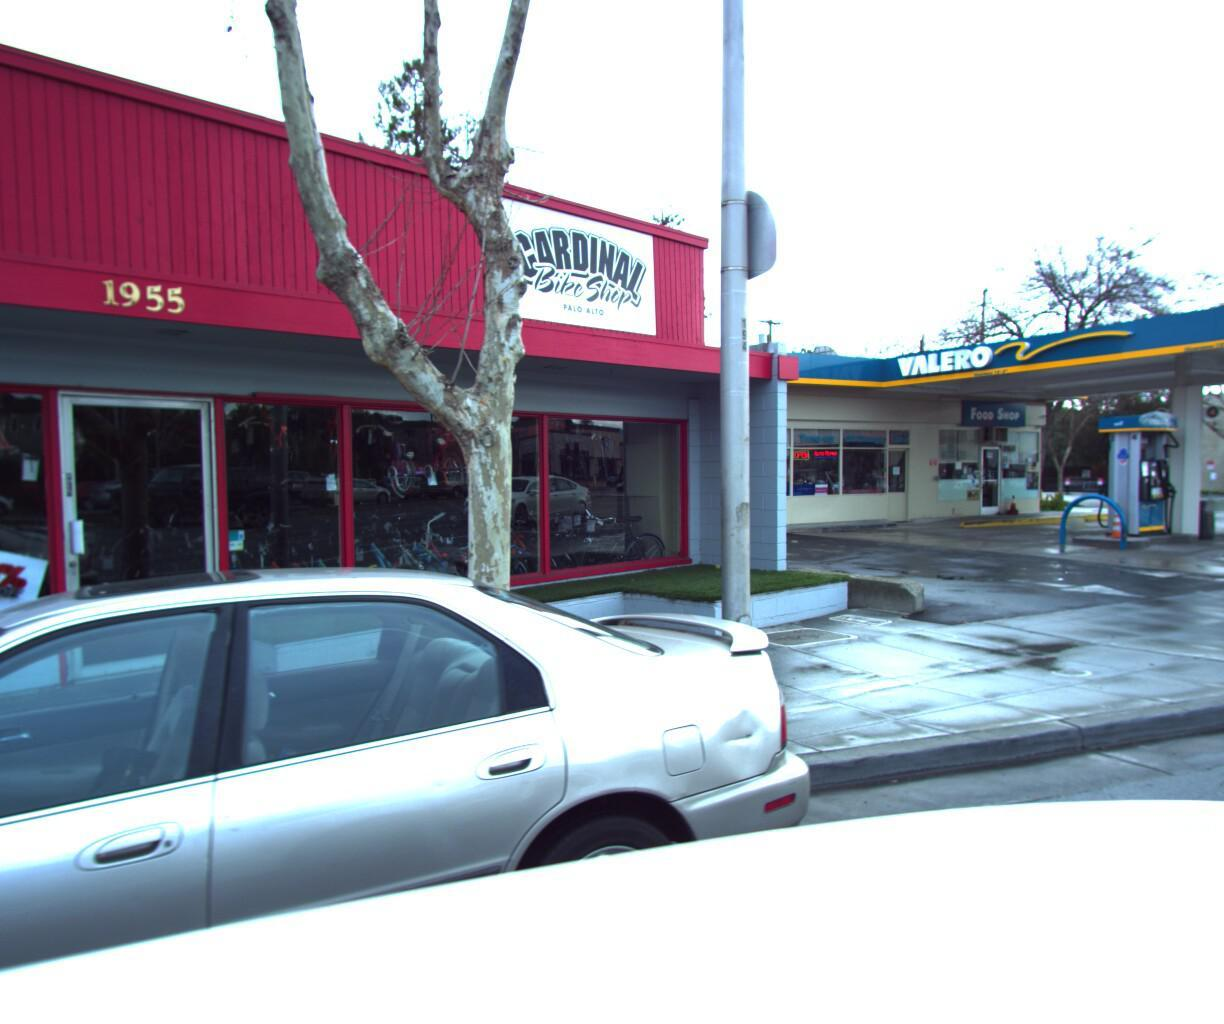car: (0, 521, 853, 1024)
